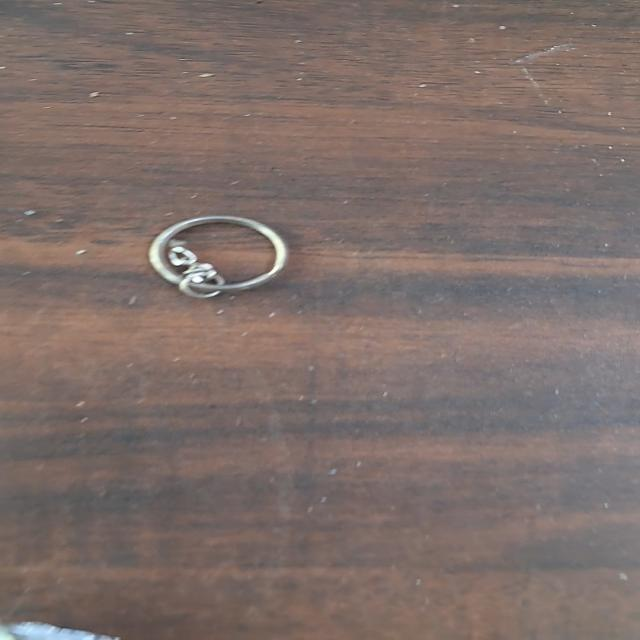Anorganik: (142, 207, 308, 303)
